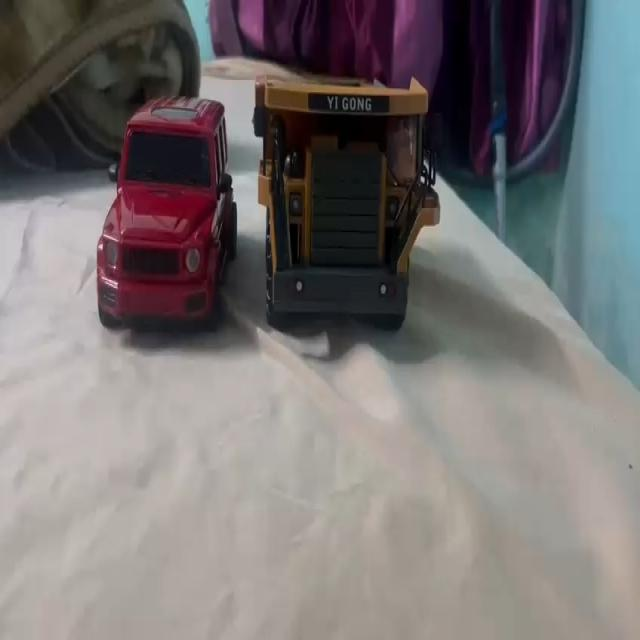dump_truck: (246, 69, 435, 325)
light_vehicle: (95, 91, 232, 330)
